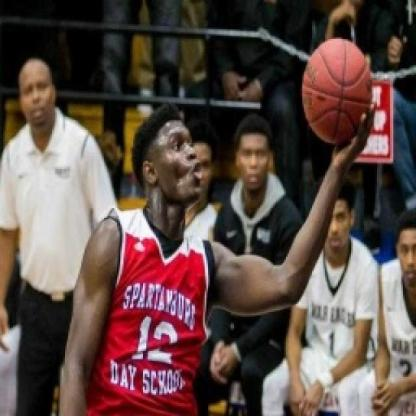basketball: (298, 33, 378, 148)
